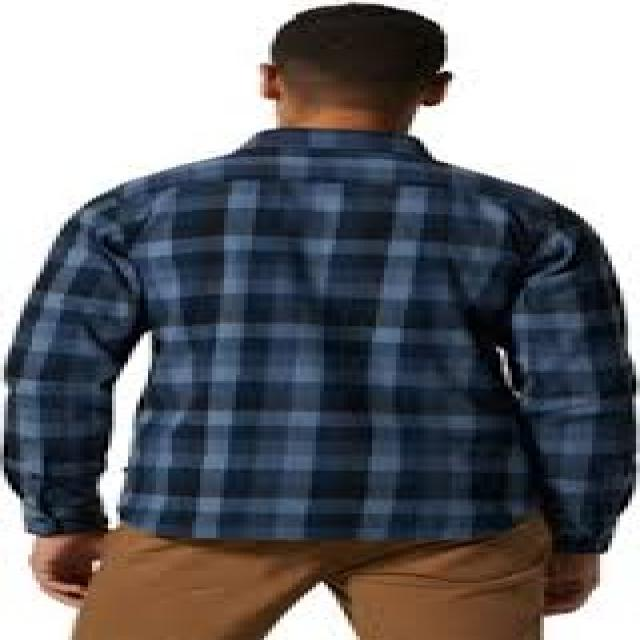plaid: (11, 130, 639, 549)
